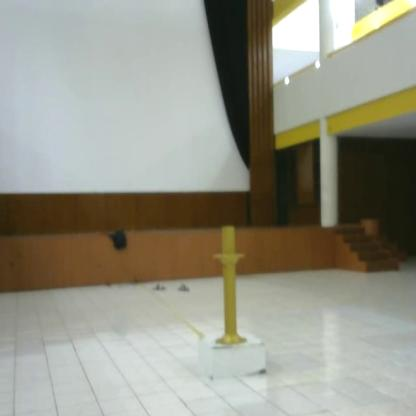pole: (213, 225, 252, 352)
